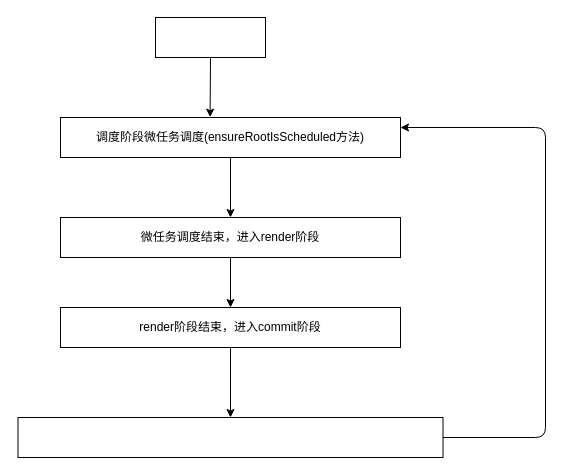
The diagram is 571 pixels wide and 475 high, and some of its shapes have lost their labels. Each missing label, with the centre of its shape:
commit阶段结束，调度阶段微任务调度 (e nsureRootIsScheduled方法): the point at 230,437
交互触发更新: the point at 210,37
